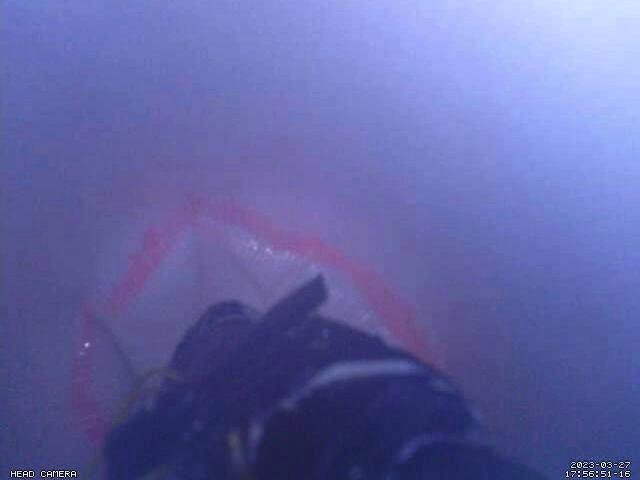head: (68, 190, 446, 449)
